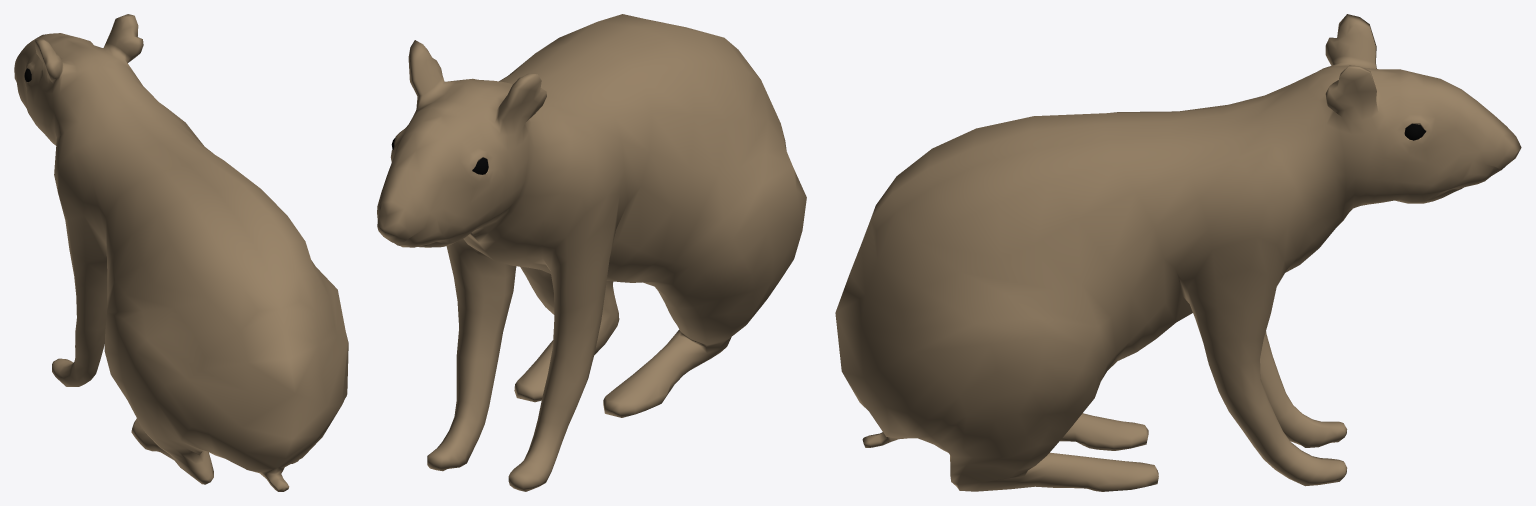
File: AGOUTI_stand.fbx
3 renders of one model, left to right at view 1: azimuth 30°, elevation 25°; view 2: azimuth 150°, elevation 25°; view 3: azimuth 270°, elevation 25°, orthographic. The views are drawn at different scales.
Visible parts, largest first — view 1: agouti_body.001; view 2: agouti_body.001; view 3: agouti_body.001.
Part boxes in pixels (x1,y1,x2,y2): agouti_body.001: [14, 14, 348, 491]; agouti_body.001: [377, 14, 806, 491]; agouti_body.001: [835, 14, 1521, 491].
Size of the model in its own units: 533 by 826 by 1212.
